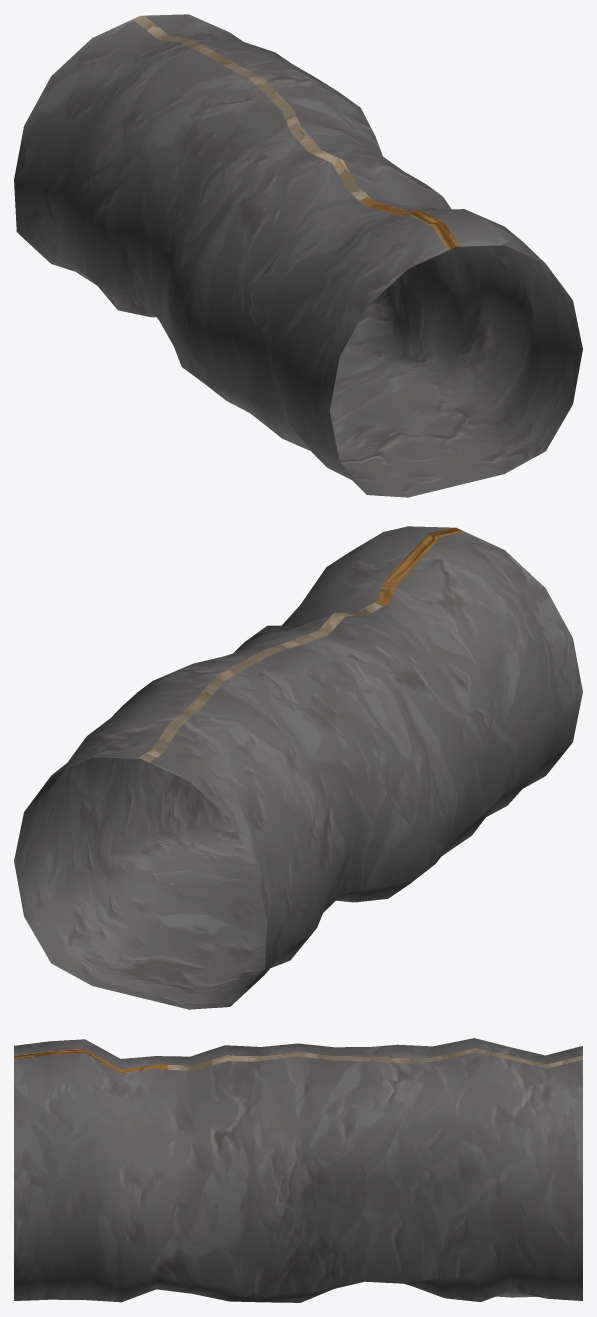
File: MOD_BumpyTun.fbx
3 views of the same model, one above another, from view 1: azimuth 30°, elevation 25°; view 2: azimuth 150°, elevation 25°; view 3: azimuth 270°, elevation 25° (orthographic). The views are drawn at different scales.
Visible parts, largest first — view 1: MOD_Bumpy_Tun; view 2: MOD_Bumpy_Tun; view 3: MOD_Bumpy_Tun.
Boxes of the visible parts, x1,y1,x2,y2 form: MOD_Bumpy_Tun: [14, 14, 582, 497]; MOD_Bumpy_Tun: [14, 526, 582, 1009]; MOD_Bumpy_Tun: [14, 1038, 582, 1302].
Size of the model in its own units: 4.1 by 3.7 by 8.48.
